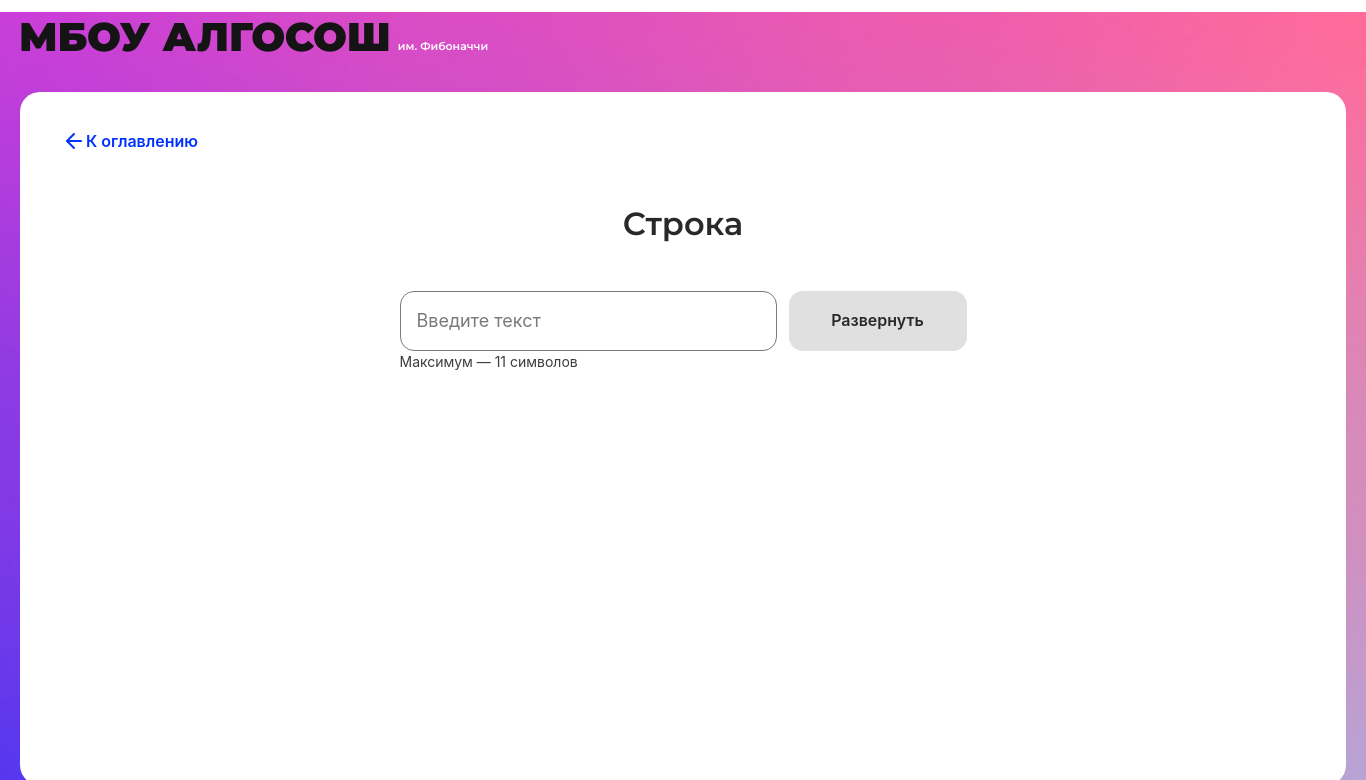
Test: Testing String Page › should correctly animate
The image size is (1366, 780).
In the field named "stringInput": [589, 321] box [400,291,777,351], type "test2"
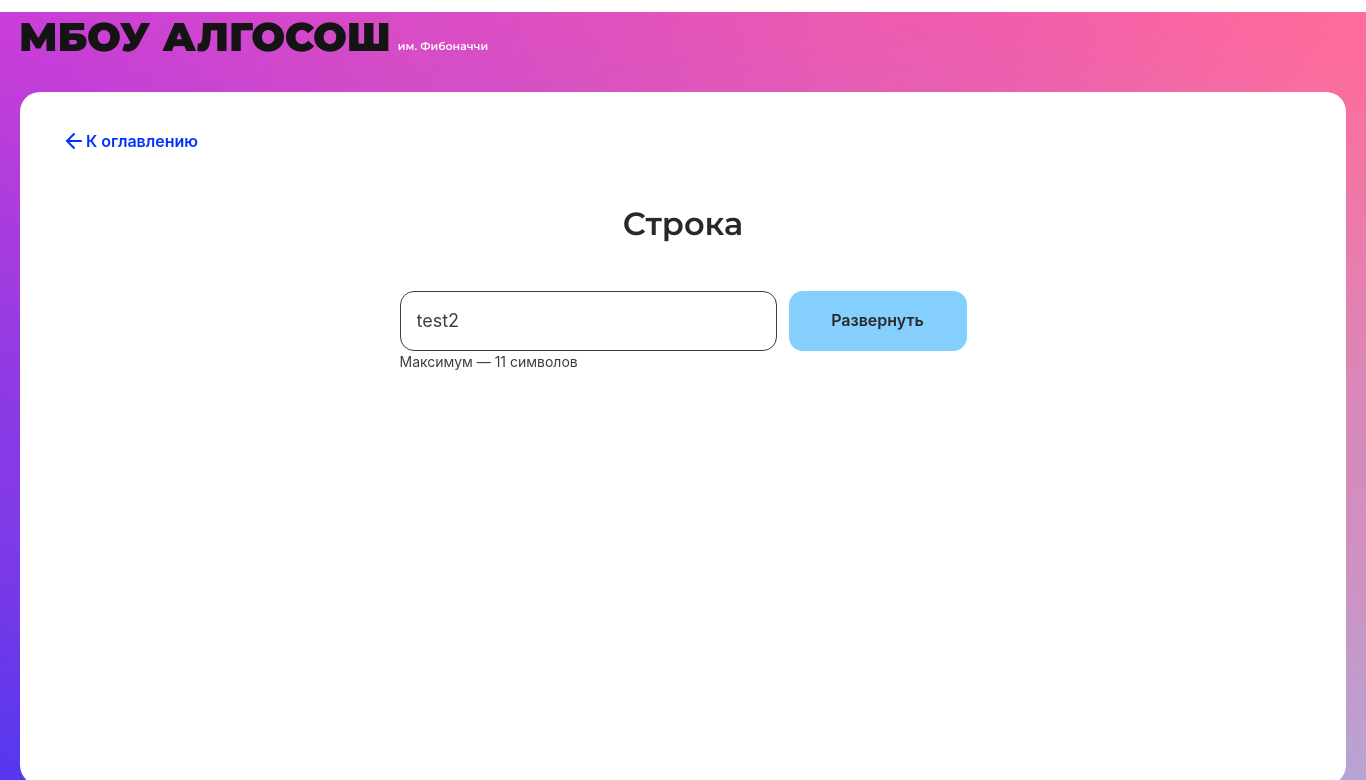
Expected: the submit button is enabled
Click the submit button: [878, 321] box [789,291,967,351]
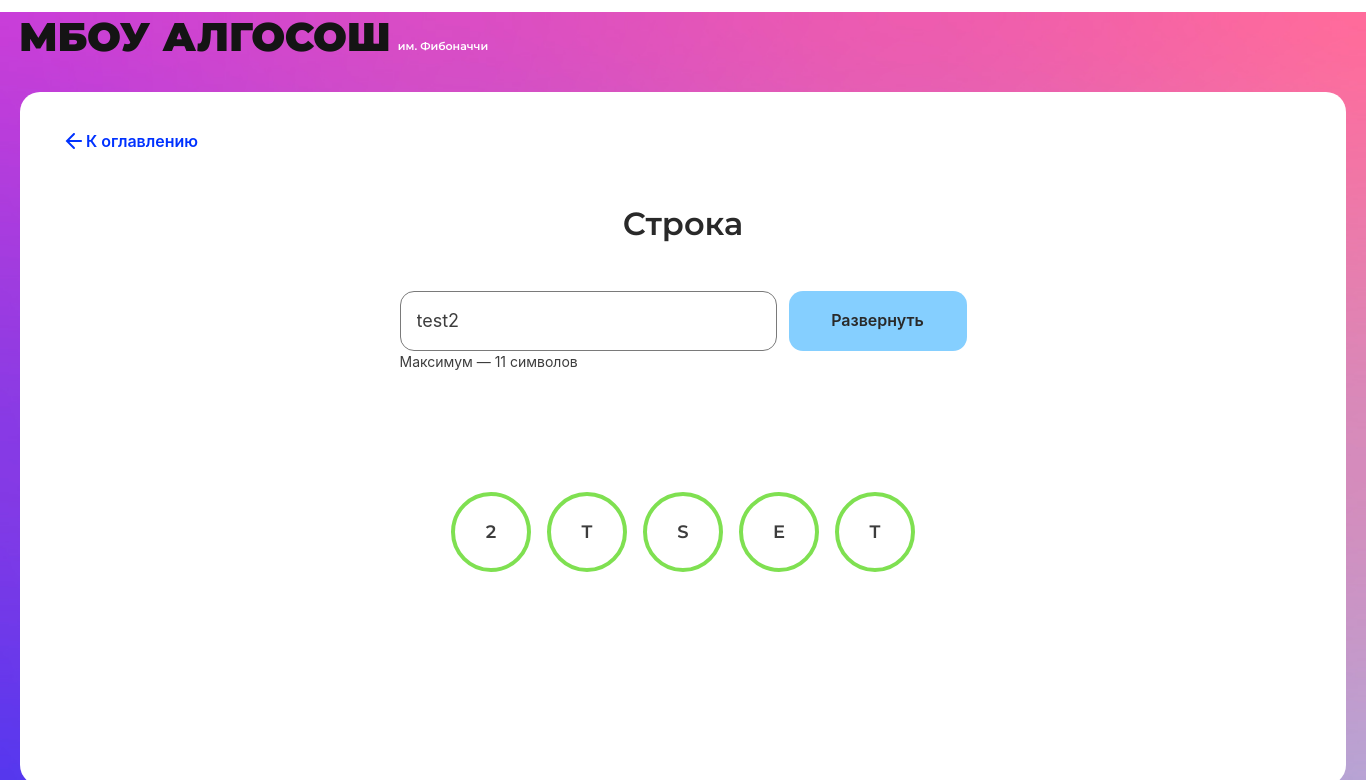
Expected: the number of elements with test id "circle-wrapper" is 5, [451,492,531,572]; [547,492,627,572]; [643,492,723,572]; [739,492,819,572]; [835,492,915,572]
Expected: the text "2" is shown, [486,521,496,543]
Expected: the 2nd text with test id "circle-letter" is shown, [582,521,593,543]
